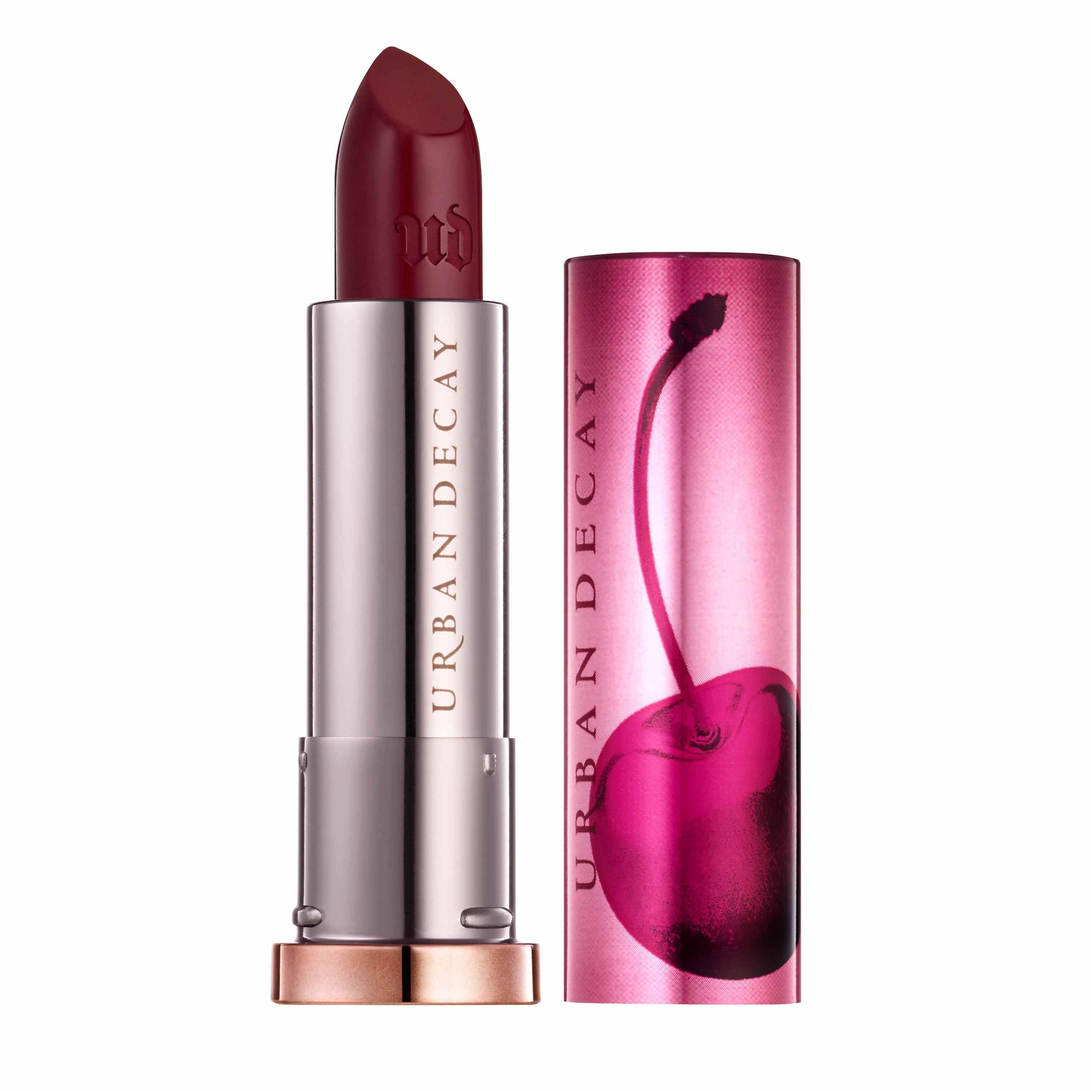lipstick: (256, 16, 541, 1028)
